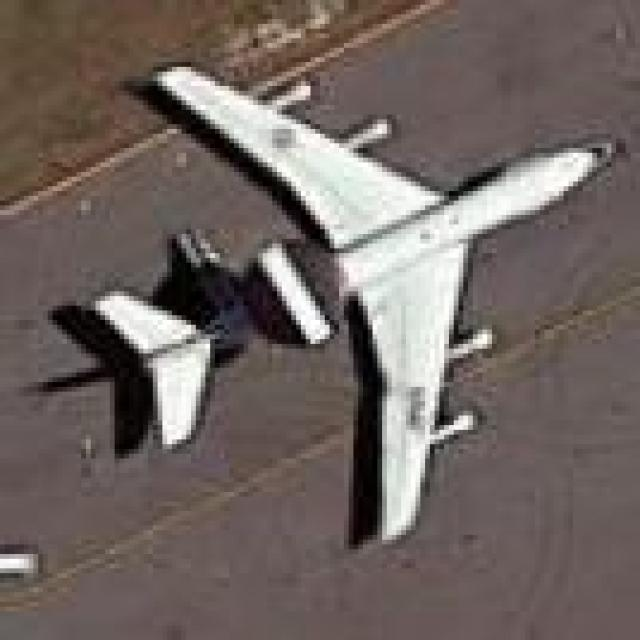E-3_TopDown: (0, 53, 616, 549)
